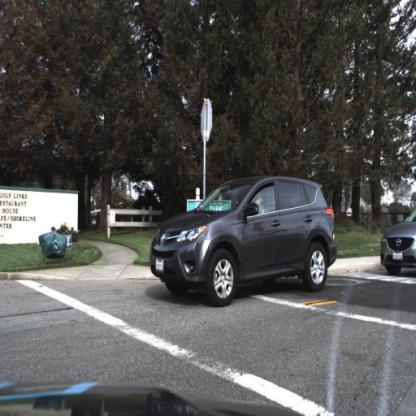car: (151, 174, 340, 309)
